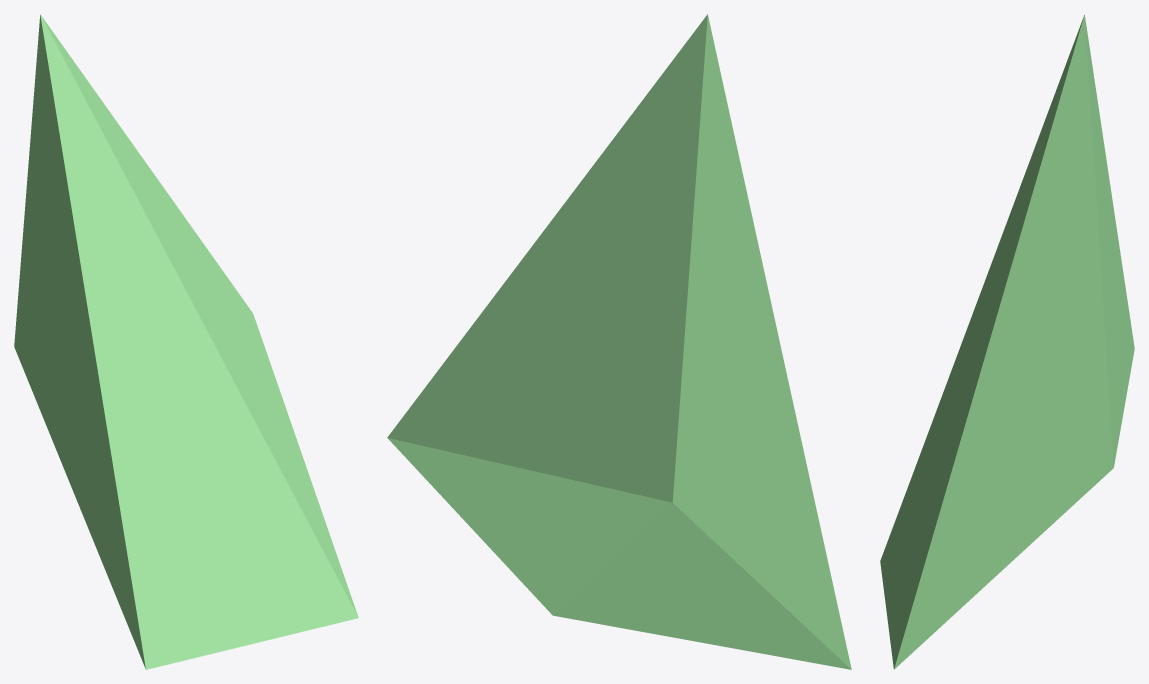
File: linkhou_LR4_R560_link6_respondable_coll_17.dae
3 renders of one model, left to right at view 1: azimuth 30°, elevation 25°; view 2: azimuth 150°, elevation 25°; view 3: azimuth 270°, elevation 25°, orthographic. The views are drawn at different scales.
Parts seen in each view (by area): view 1: Node_00000298084365D0; view 2: Node_00000298084365D0; view 3: Node_00000298084365D0.
Part boxes in pixels (x1,y1,x2,y2): Node_00000298084365D0: [14, 14, 358, 669]; Node_00000298084365D0: [387, 14, 851, 669]; Node_00000298084365D0: [880, 14, 1134, 669].
Bounding box in the file's own units: 0.0169 × 0.041 × 0.0171.
